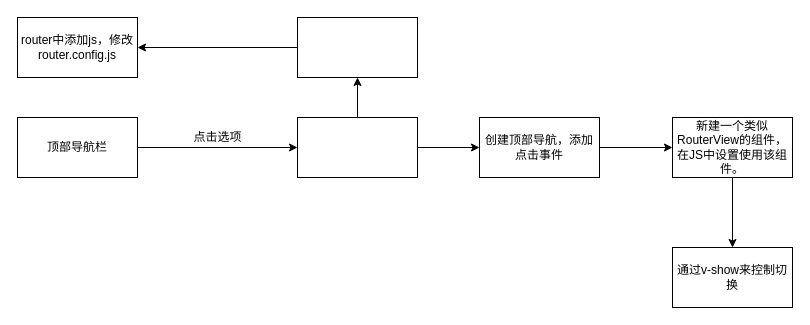
Some shapes in this 810 by 325 pixel diagram are drawn without their labels. The shapes that lost their labels are listed below. From the top down, each one's centre as x and y in pixels, then its label:
At [357,47]: "左侧菜单添加选项".
At [357,147]: "左侧菜单栏切换显示 ：项目成本管理（初始）、科室成本管理".
